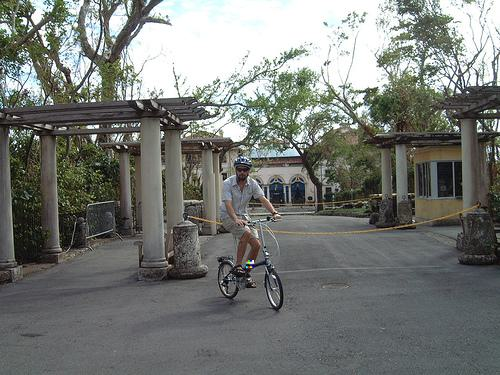car: (216, 218, 284, 311)
person: (220, 158, 283, 289)
person/foot: (243, 275, 257, 289), (232, 266, 246, 277)
person/hand: (272, 211, 284, 222), (235, 220, 250, 228)
person/head: (233, 158, 253, 181)
